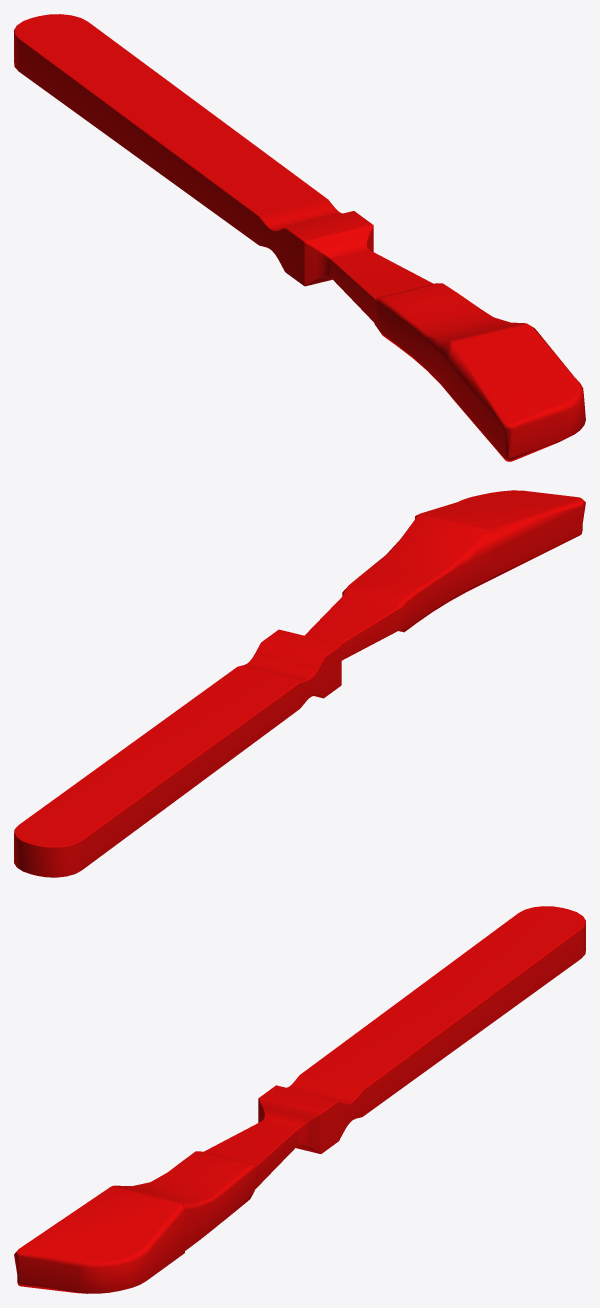
File: Medical_instrument_9.fbx
3 views of the same model, one above another, from view 1: azimuth 30°, elevation 25°; view 2: azimuth 150°, elevation 25°; view 3: azimuth 330°, elevation 25° (orthographic). The views are drawn at different scales.
Visible parts, largest first — view 1: L39:pCube282; view 2: L39:pCube282; view 3: L39:pCube282.
Part boxes in pixels (bbox=[...]): L39:pCube282: bbox=[14, 14, 585, 461]; L39:pCube282: bbox=[14, 490, 585, 877]; L39:pCube282: bbox=[14, 906, 585, 1293].
Size of the model in its own units: 2.22 by 1.17 by 19.19.
